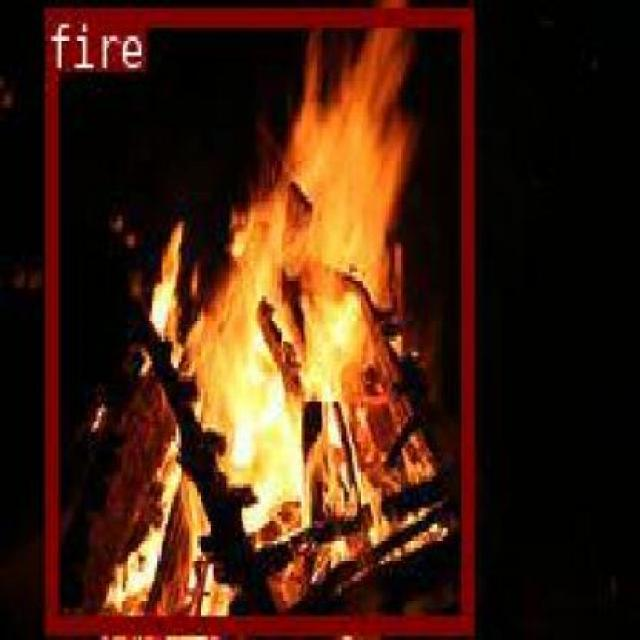Fire: (44, 8, 470, 630)
